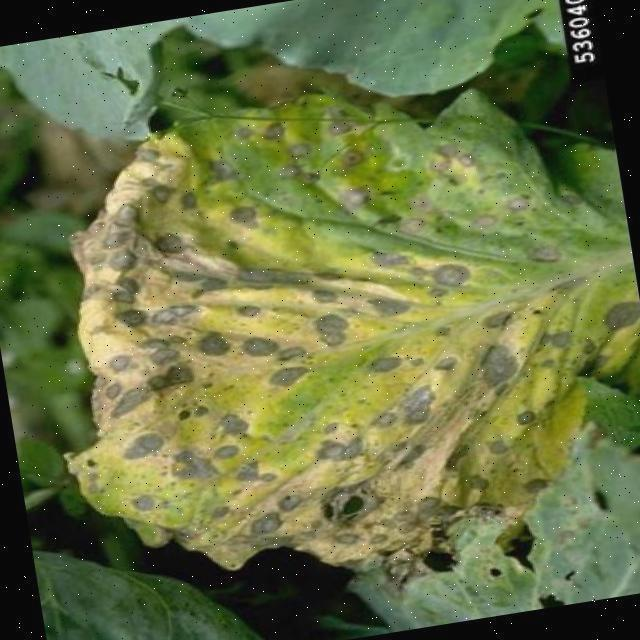Lettuce Mosaic Virus: (92, 146, 563, 515)
